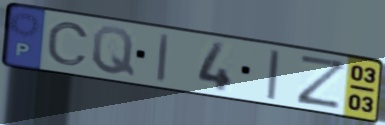4: (195, 39, 235, 94)
C: (45, 20, 92, 67)
I: (264, 47, 283, 102), (154, 31, 172, 86)
Q: (90, 24, 137, 79)
Z: (295, 52, 350, 111)
